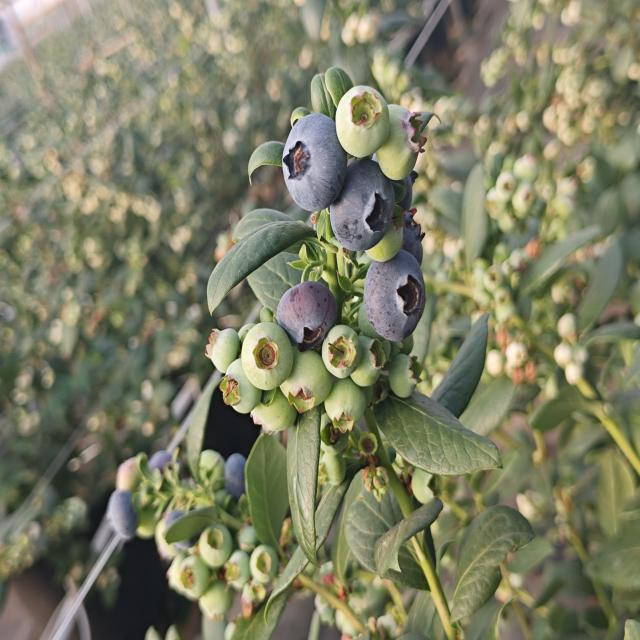ripe: (279, 111, 348, 215), (327, 157, 397, 256), (361, 249, 427, 345), (274, 278, 339, 354), (105, 488, 148, 548), (142, 444, 188, 493), (220, 442, 252, 491)
